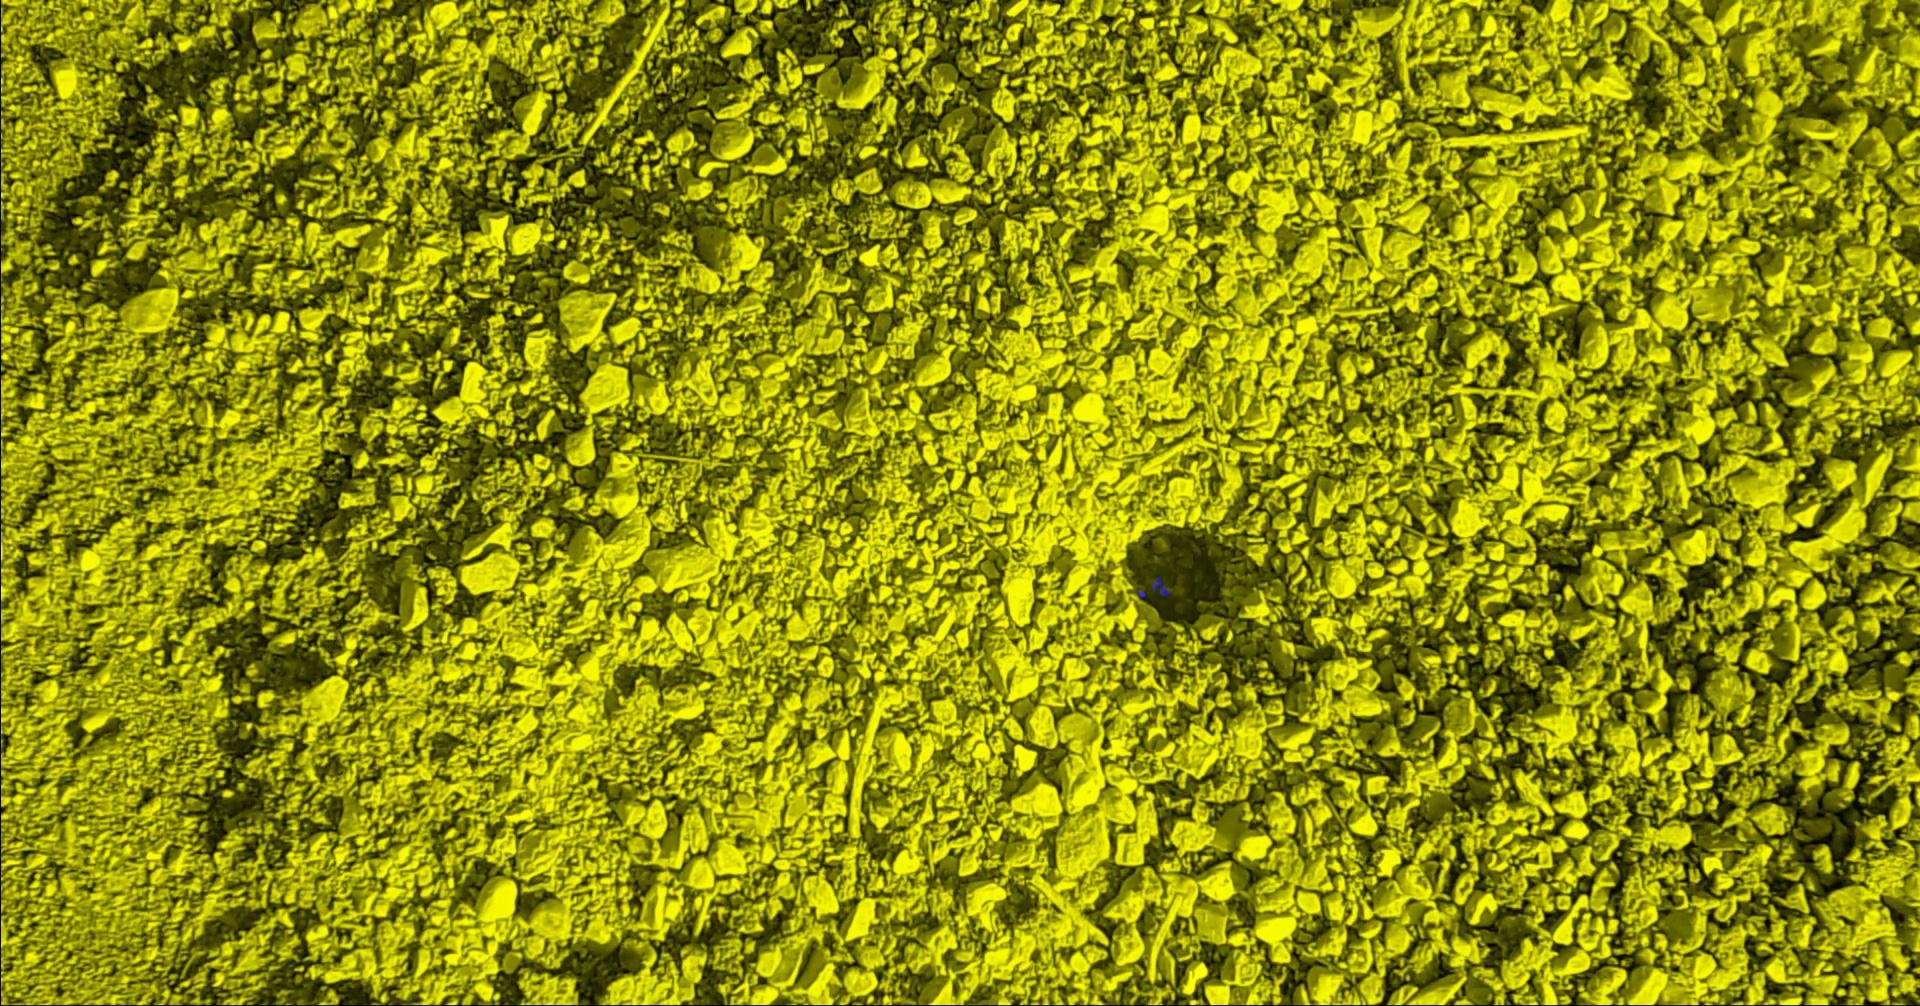ant: (1152, 575, 1172, 596)
